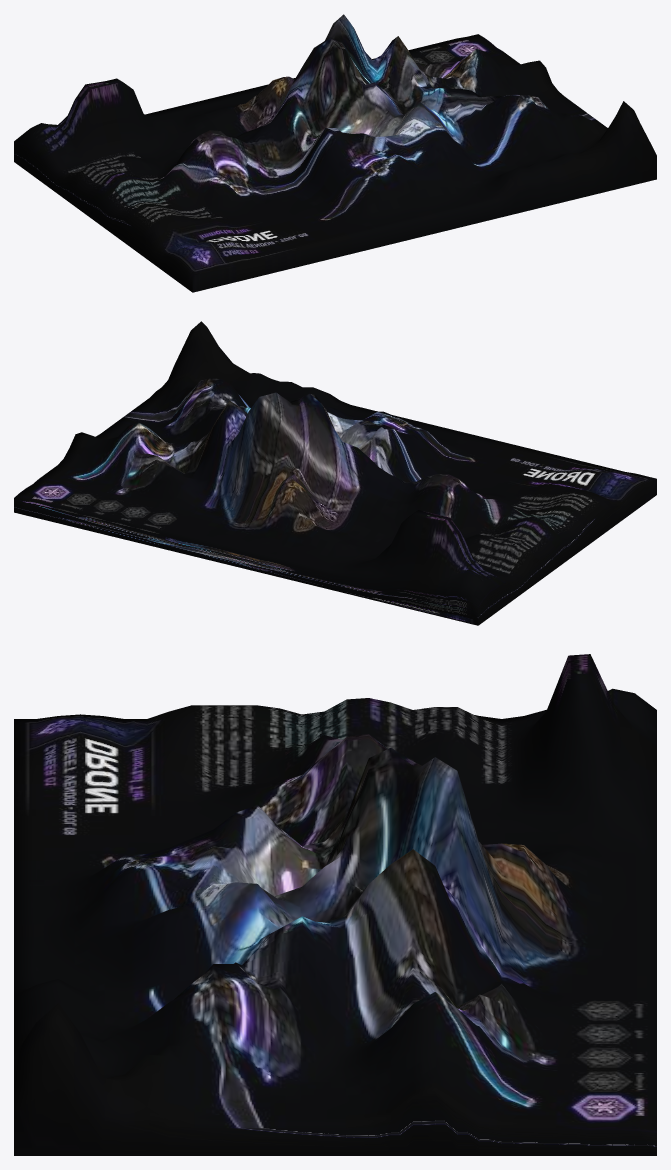
File: CAREER_01_Tool_08_Drone.glb
3 views of the same model, one above another, from view 1: azimuth 30°, elevation 25°; view 2: azimuth 150°, elevation 25°; view 3: azimuth 270°, elevation 25° (orthographic). The views are drawn at different scales.
Visible parts, largest first — view 1: CAREER_01_Tool_08_Drone; view 2: CAREER_01_Tool_08_Drone; view 3: CAREER_01_Tool_08_Drone.
Part boxes in pixels (x1=…): CAREER_01_Tool_08_Drone: x1=14, y1=14, x2=656, y2=292; CAREER_01_Tool_08_Drone: x1=14, y1=321, x2=656, y2=625; CAREER_01_Tool_08_Drone: x1=14, y1=654, x2=656, y2=1155.
Size of the model in its own units: 2 by 0.51 by 1.33.
Materials: 1 (1 with a texture image).
